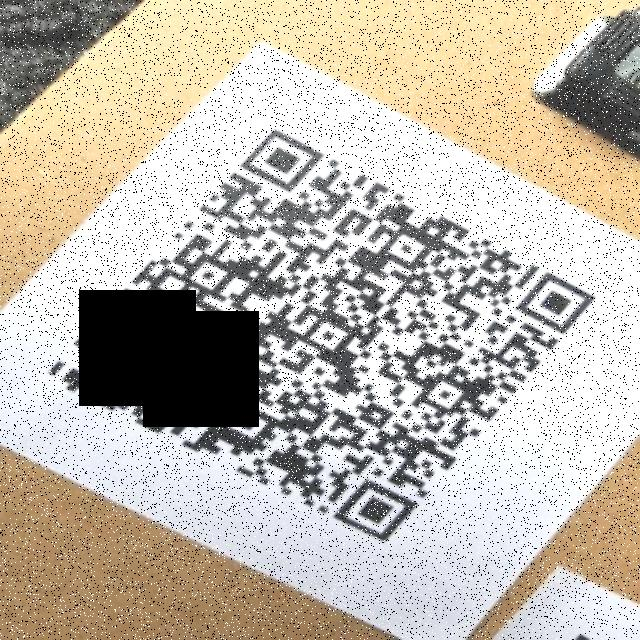QR_CODE: (35, 118, 609, 558)
